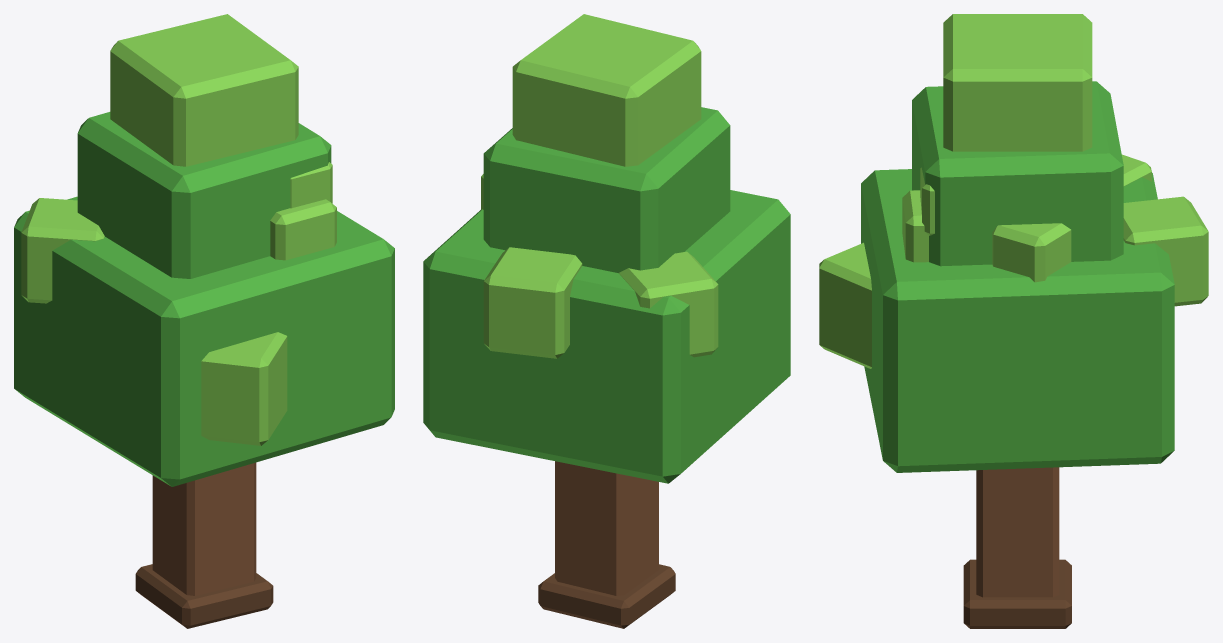
Rendered from VoxelTree.fbx.
3 views of the same model, side by side, from view 1: azimuth 30°, elevation 25°; view 2: azimuth 150°, elevation 25°; view 3: azimuth 270°, elevation 25° (orthographic). The views are drawn at different scales.
Visible parts, largest first — view 1: VoxelTree_Leaf, VoxelTree_LeafLight, VoxelTree_Bark, VoxelTree_BarkDark; view 2: VoxelTree_Leaf, VoxelTree_LeafLight, VoxelTree_Bark, VoxelTree_BarkDark; view 3: VoxelTree_Leaf, VoxelTree_LeafLight, VoxelTree_Bark, VoxelTree_BarkDark.
Boxes of the visible parts, left/top/right/bottom form: VoxelTree_Leaf: left=14, top=112, right=394, bottom=486; VoxelTree_LeafLight: left=21, top=14, right=336, bottom=445; VoxelTree_Bark: left=152, top=462, right=256, bottom=595; VoxelTree_BarkDark: left=135, top=564, right=273, bottom=628; VoxelTree_Leaf: left=423, top=107, right=790, bottom=483; VoxelTree_LeafLight: left=481, top=14, right=718, bottom=358; VoxelTree_Bark: left=555, top=461, right=658, bottom=595; VoxelTree_BarkDark: left=538, top=564, right=675, bottom=628; VoxelTree_Leaf: left=861, top=81, right=1174, bottom=472; VoxelTree_LeafLight: left=819, top=14, right=1208, bottom=368; VoxelTree_Bark: left=976, top=467, right=1059, bottom=597; VoxelTree_BarkDark: left=963, top=559, right=1071, bottom=628.
Size of the model in its own units: 517 by 983 by 612.
